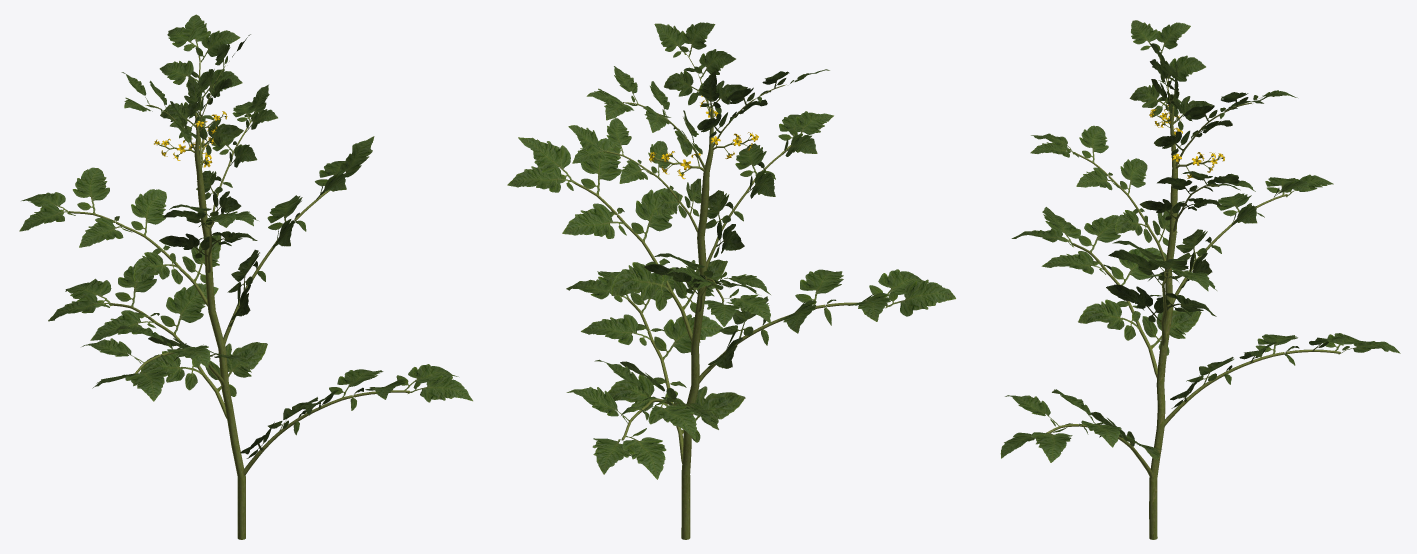
3 renders of one model, left to right at view 1: azimuth 30°, elevation 25°; view 2: azimuth 150°, elevation 25°; view 3: azimuth 270°, elevation 25°, orthographic. The views are drawn at different scales.
Parts seen in each view (by area): view 1: VG18_2; view 2: VG18_2; view 3: VG18_2.
Boxes of the visible parts, <box> form: VG18_2: <box>19,14,472,539</box>; VG18_2: <box>507,22,955,539</box>; VG18_2: <box>1000,20,1400,539</box>.
Size of the model in its own units: 0.9256 by 1.19 by 0.9081.
7 materials, 7 textured.
